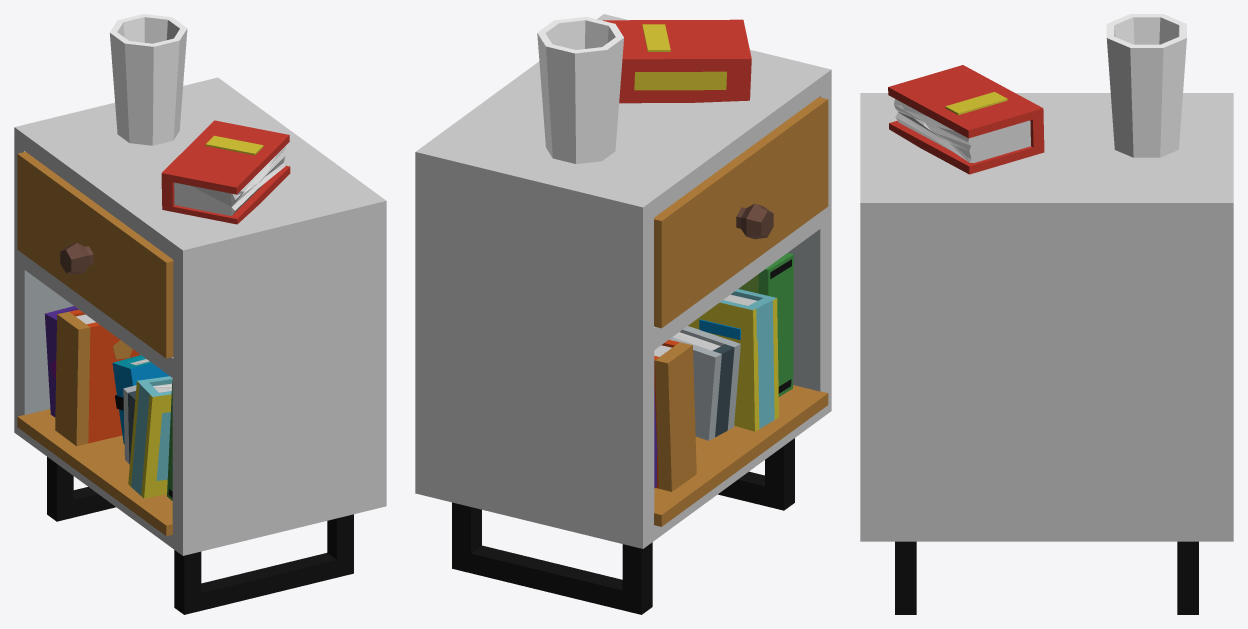
3 views of the same model, side by side, from view 1: azimuth 30°, elevation 25°; view 2: azimuth 150°, elevation 25°; view 3: azimuth 270°, elevation 25° (orthographic). The views are drawn at different scales.
Parts seen in each view (by area): view 1: node_MeshObject-606646272-PolyPaper21, node_MeshObject-34567168-PolyGlass24; view 2: node_MeshObject-606646272-PolyPaper21, node_MeshObject-34567168-PolyGlass24; view 3: node_MeshObject-606646272-PolyPaper21, node_MeshObject-34567168-PolyGlass24.
Boxes of the visible parts, x1,y1,x2,y2 form: node_MeshObject-606646272-PolyPaper21: (14,77,386,614); node_MeshObject-34567168-PolyGlass24: (110,14,187,145); node_MeshObject-606646272-PolyPaper21: (415,14,831,614); node_MeshObject-34567168-PolyGlass24: (537,17,623,163); node_MeshObject-606646272-PolyPaper21: (860,65,1233,614); node_MeshObject-34567168-PolyGlass24: (1106,14,1186,157).
Bounding box in the file's own units: 0.688 × 1.36 × 0.86.
